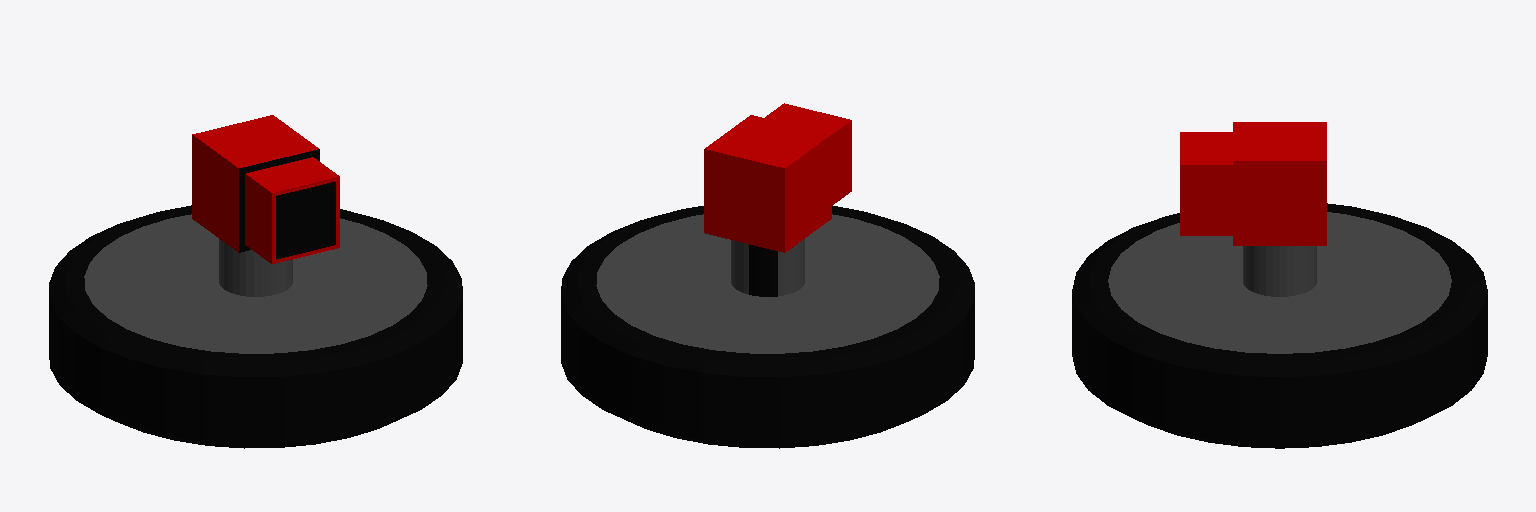
File: robot.obj
The picture shows the model from 3 angles: view 1: azimuth 30°, elevation 25°; view 2: azimuth 150°, elevation 25°; view 3: azimuth 270°, elevation 25°; orthographic projection.
Visible parts, largest first — view 1: Cylinder; view 2: Cylinder; view 3: Cylinder.
Part boxes in pixels (x1,y1,x2,y2): Cylinder: (49,115,462,448); Cylinder: (561,103,974,448); Cylinder: (1072,122,1487,448).
Size of the model in its own units: 2 by 1.21 by 2.